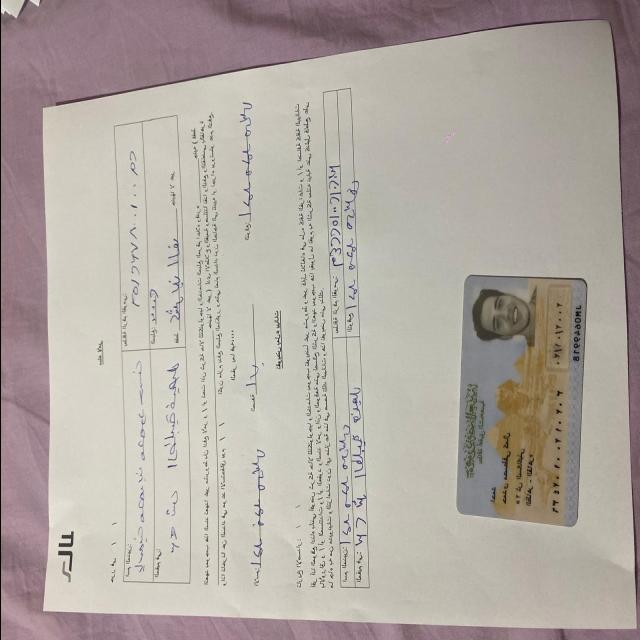id_card: (451, 271, 590, 534)
